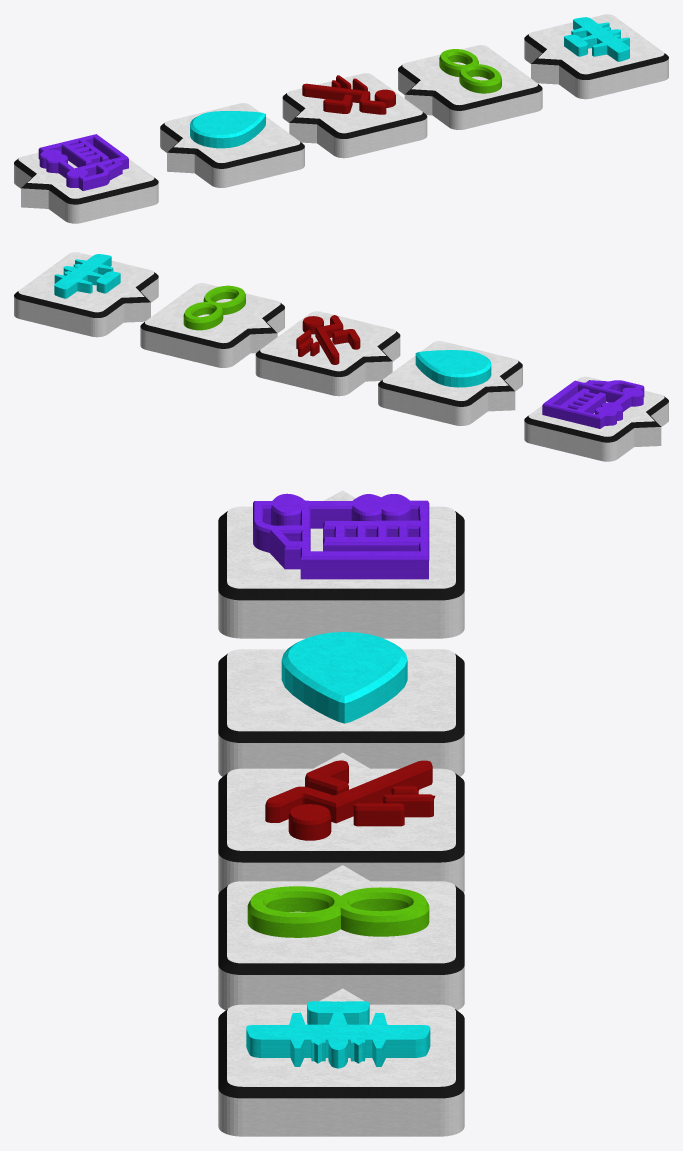
The model's file is Items.FBX.
The picture shows the model from 3 angles, top to bottom: view 1: azimuth 30°, elevation 25°; view 2: azimuth 150°, elevation 25°; view 3: azimuth 270°, elevation 25°; orthographic projection. The views are drawn at different scales.
Visible parts, largest first — view 1: Rectangle003, Rectangle004, Rectangle002, Rectangle001, Rectangle005, Line004, Circle001, Line003, Line005u, Text001; view 2: Rectangle002, Rectangle003, Rectangle004, Rectangle001, Rectangle005, Line004, Circle001, Line005u, Line003, Text001; view 3: Rectangle004, Rectangle003, Rectangle001, Rectangle005, Rectangle002, Line004, Circle001, Line003, Line005u, Text001.
Boxes of the visible parts, left/top/right/bottom form: Rectangle003: left=398, top=45, right=542, bottom=129; Rectangle004: left=524, top=14, right=668, bottom=99; Rectangle002: left=282, top=73, right=427, bottom=158; Rectangle001: left=160, top=103, right=304, bottom=187; Rectangle005: left=14, top=152, right=158, bottom=223; Line004: left=38, top=134, right=128, bottom=190; Circle001: left=190, top=111, right=265, bottom=148; Line003: left=302, top=75, right=395, bottom=114; Line005u: left=564, top=17, right=629, bottom=61; Text001: left=439, top=49, right=501, bottom=93; Rectangle002: left=255, top=311, right=400, bottom=396; Rectangle003: left=140, top=283, right=284, bottom=367; Rectangle004: left=14, top=252, right=158, bottom=337; Rectangle001: left=378, top=341, right=522, bottom=425; Rectangle005: left=524, top=376, right=668, bottom=461; Line004: left=542, top=380, right=644, bottom=428; Circle001: left=415, top=350, right=491, bottom=387; Line005u: left=54, top=254, right=120, bottom=298; Line003: left=296, top=315, right=360, bottom=364; Text001: left=183, top=285, right=245, bottom=330; Rectangle004: left=218, top=988, right=464, bottom=1136; Rectangle003: left=218, top=865, right=464, bottom=1010; Rectangle001: left=218, top=649, right=464, bottom=776; Rectangle005: left=218, top=490, right=464, bottom=638; Rectangle002: left=218, top=752, right=464, bottom=892; Line004: left=253, top=493, right=429, bottom=579; Circle001: left=281, top=632, right=407, bottom=723; Line003: left=265, top=760, right=435, bottom=840; Line005u: left=246, top=1001, right=430, bottom=1068; Text001: left=247, top=886, right=429, bottom=937.
Size of the model in its own units: 375 by 20.26 by 64.31.
Materials: 1 (1 with a texture image).
